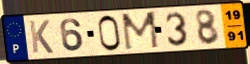0: (96, 13, 123, 52)
3: (164, 11, 189, 48)
6: (59, 18, 85, 53)
8: (194, 8, 222, 46)
K: (27, 19, 55, 55)
M: (120, 10, 162, 52)
